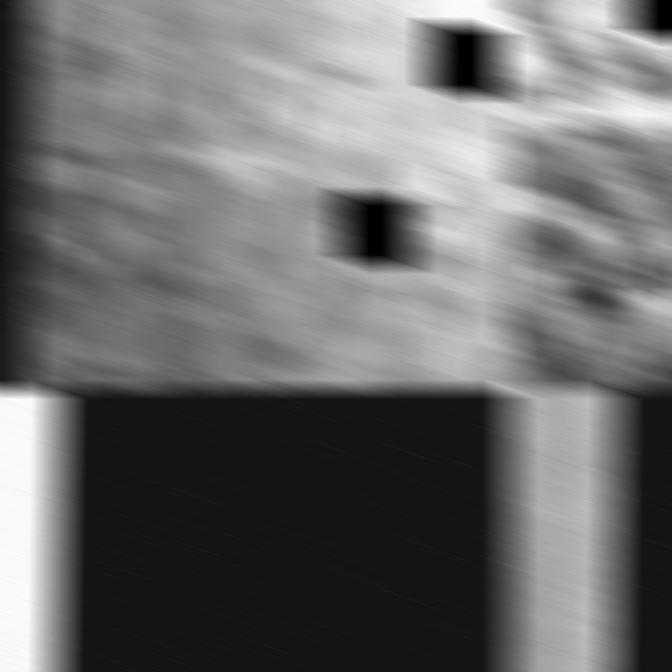Airbag: (0, 0, 516, 391), (503, 0, 672, 391), (503, 387, 638, 672), (0, 387, 77, 672)
